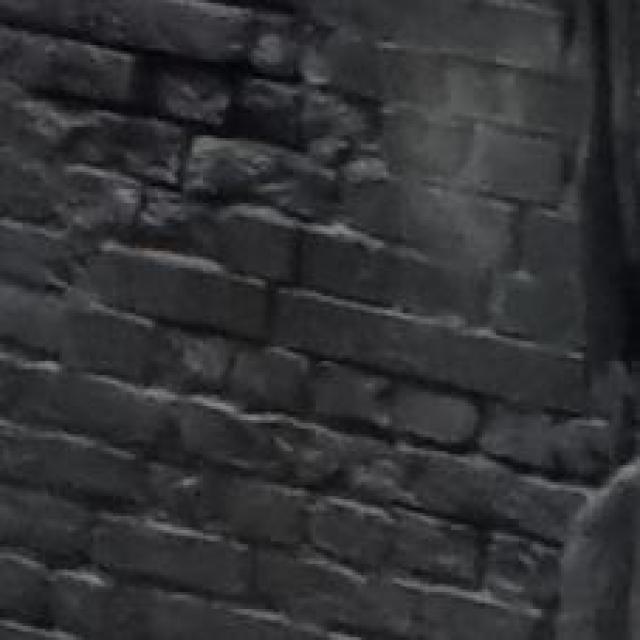Crack: (35, 1, 465, 560)
